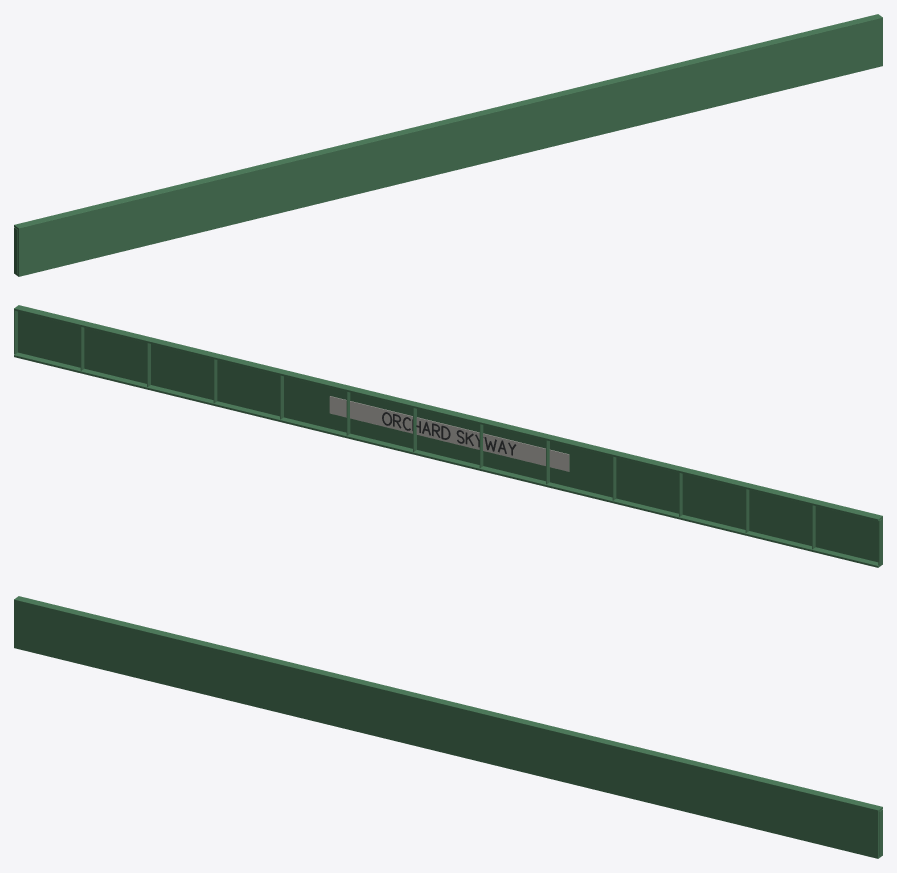
The model's file is prop_rt_skyway_girder_l2600.glb.
3 views of the same model, one above another, from view 1: azimuth 30°, elevation 25°; view 2: azimuth 150°, elevation 25°; view 3: azimuth 330°, elevation 25° (orthographic).
Visible parts, largest first — view 1: Body; view 2: Body; view 3: Body.
Boxes of the visible parts, bbox=[...] form: Body: bbox=[14, 14, 882, 276]; Body: bbox=[14, 305, 882, 567]; Body: bbox=[14, 596, 882, 858].
Bounding box in the file's own units: 26.02 × 1.4 × 0.25.
